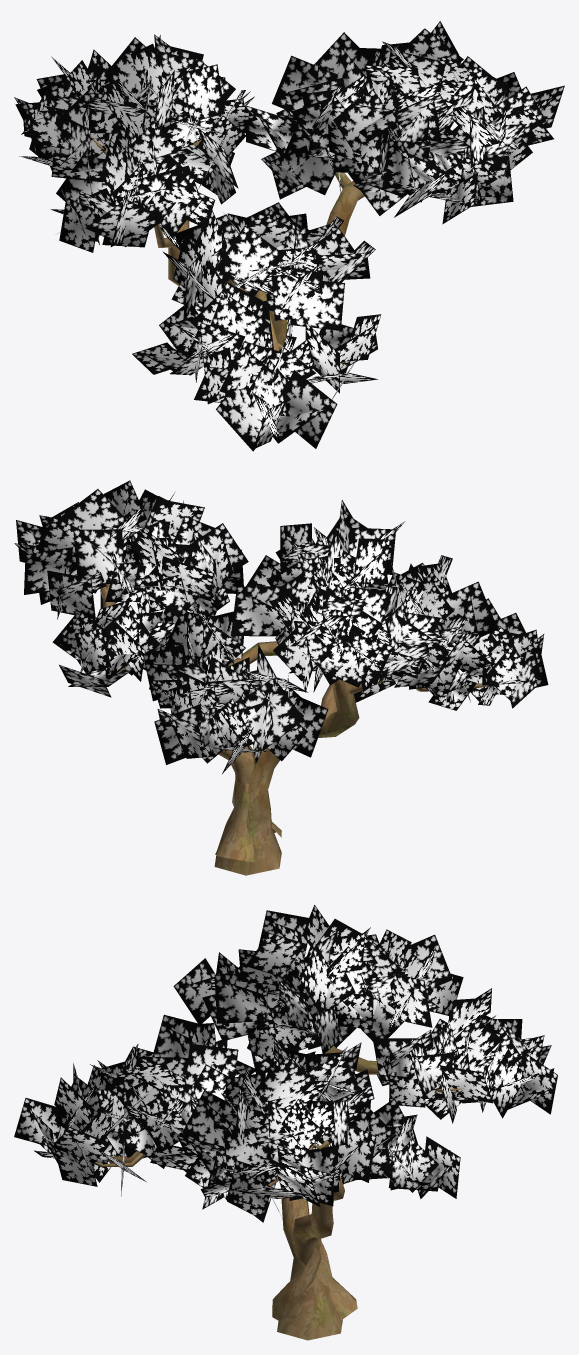
Rendered from P_RedMaple02_Gold.obj.
3 views of the same model, one above another, from view 1: azimuth 30°, elevation 25°; view 2: azimuth 150°, elevation 25°; view 3: azimuth 270°, elevation 25° (orthographic). The views are drawn at different scales.
Bounding box in the file's own units: 26.45 × 19.42 × 27.06.
